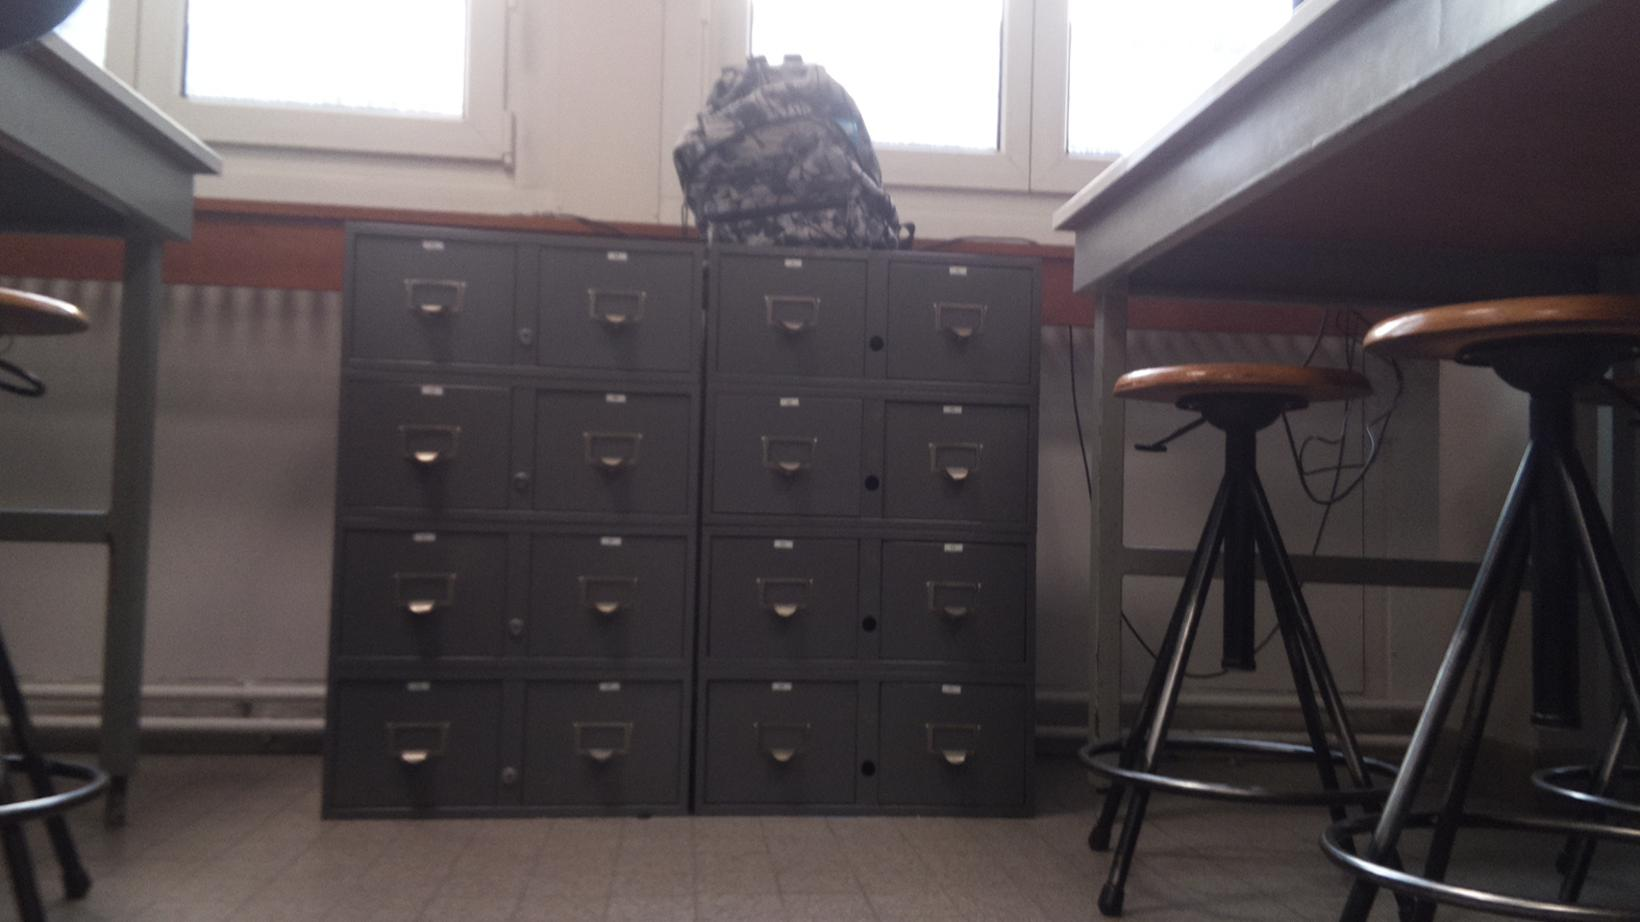big: (672, 45, 932, 259)
